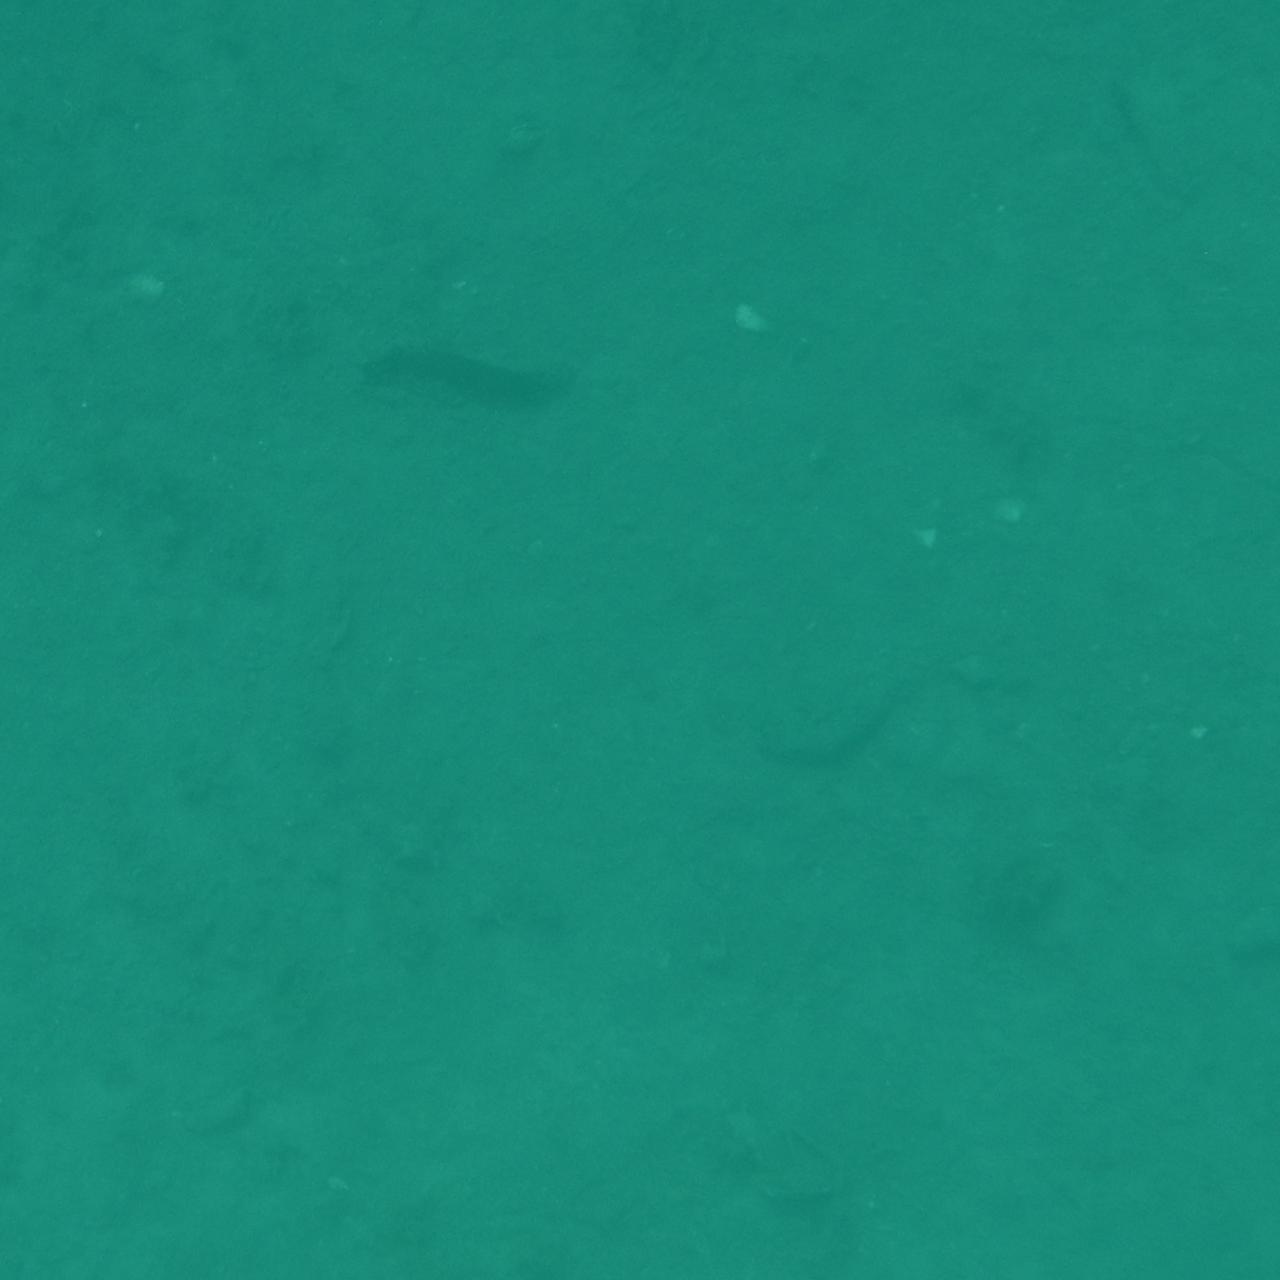Holothuria tubulosa: (702, 652, 1070, 787), (352, 328, 626, 438), (1164, 704, 1280, 898), (1105, 899, 1280, 1012), (1200, 914, 1280, 1146), (0, 139, 63, 362)
